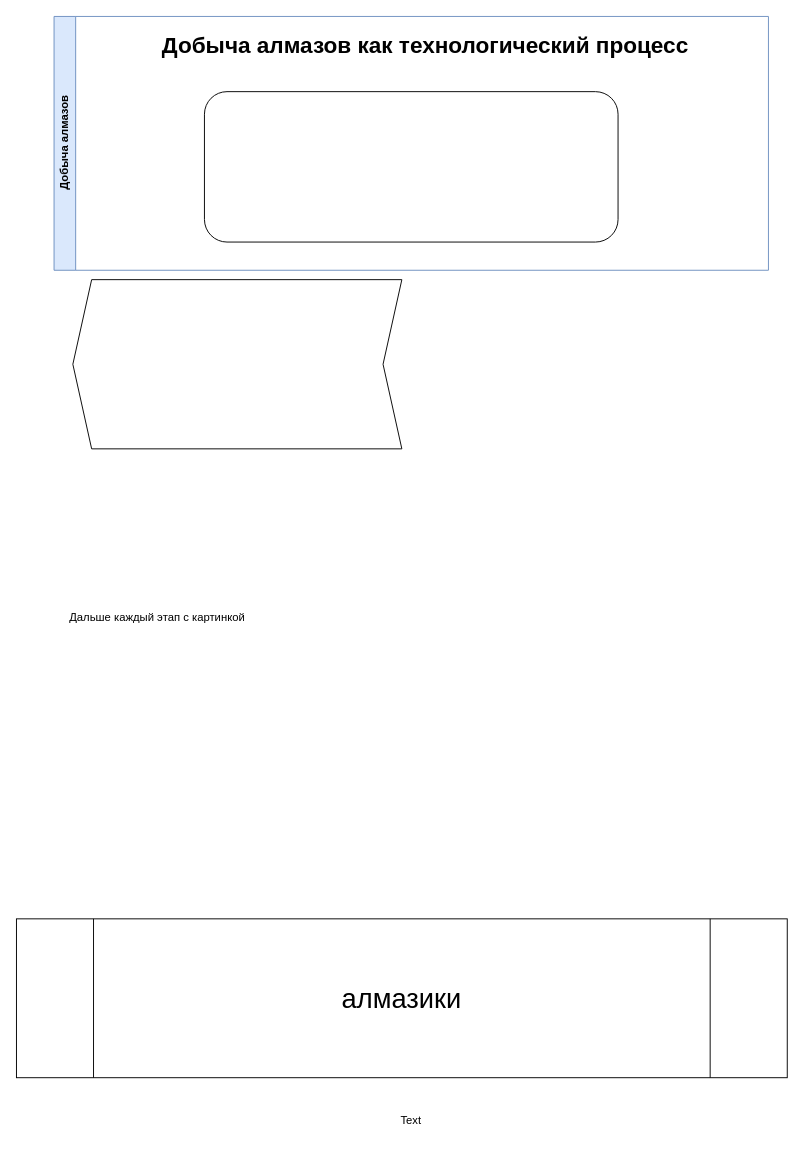
Image size: 804x1152. Some labels were removed from this diagram. The shapes that lost their labels are listed below. From the top down, each one's box as (x1, y1, x2, y2) in pixels, then its label:
(204, 91, 618, 242): фото
(72, 279, 402, 449): Этапы процесса, с ссылками на них
